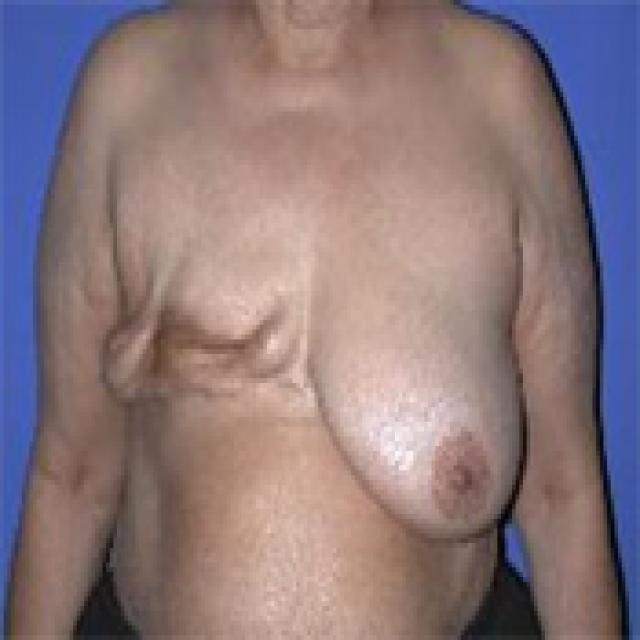Seno herido: (94, 231, 314, 457)
Seno ileso: (317, 231, 535, 555)
